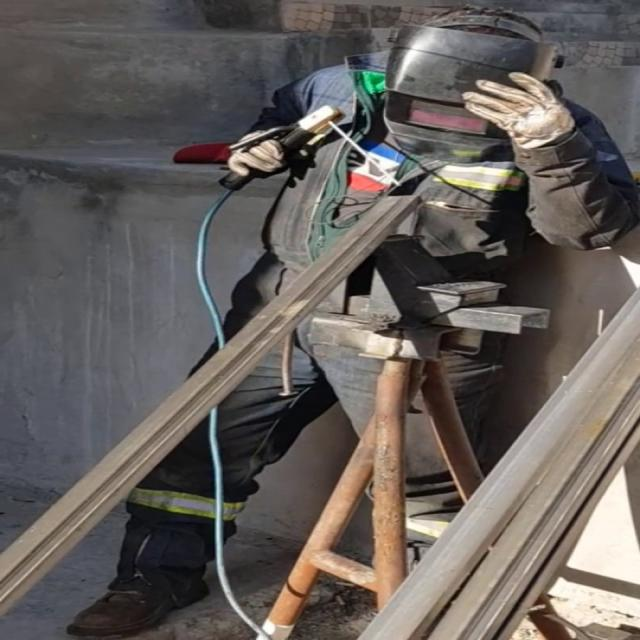gloved: (459, 70, 576, 148), (225, 136, 289, 178)
